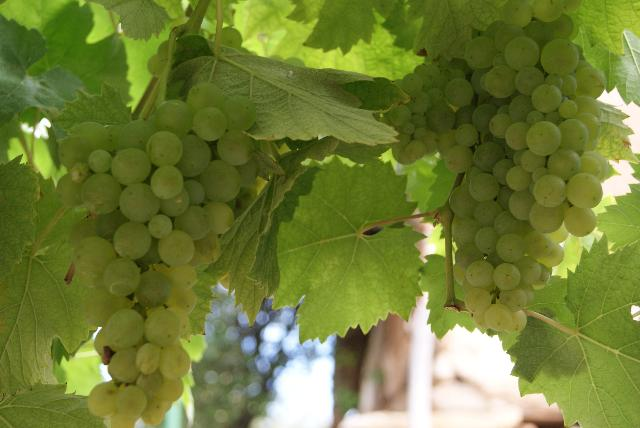grapes: (55, 82, 259, 428), (450, 0, 609, 334), (384, 58, 476, 165)
